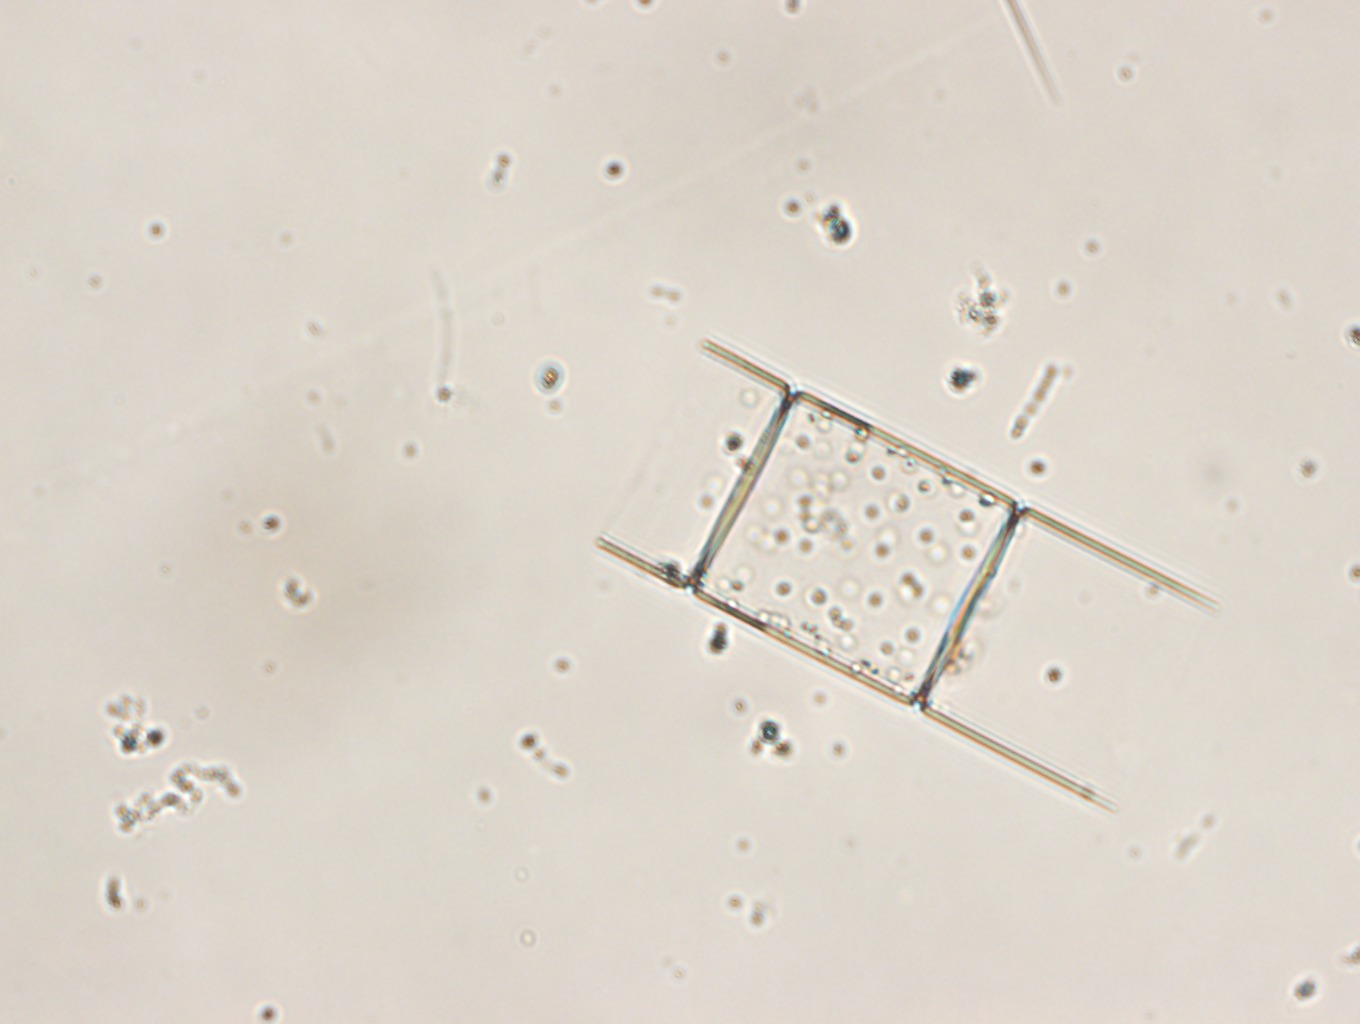guinardia flaccida: (592, 323, 1226, 824)
